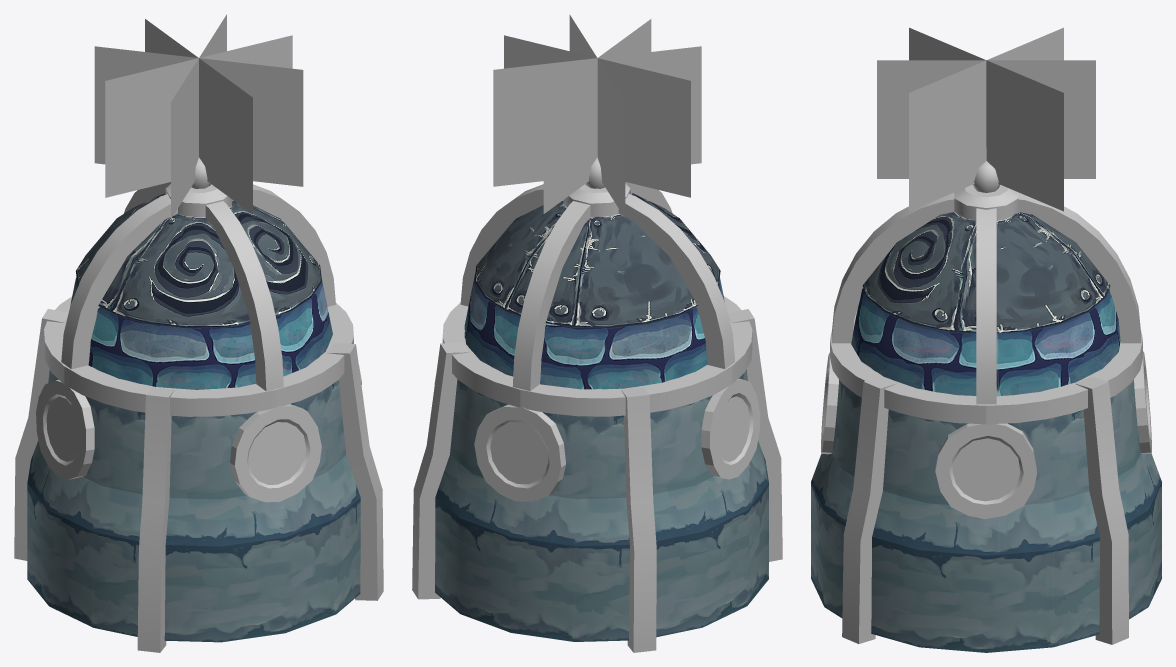
File: SM_CT_Cathedral2.FBX
The picture shows the model from 3 angles, left to right: view 1: azimuth 30°, elevation 25°; view 2: azimuth 150°, elevation 25°; view 3: azimuth 270°, elevation 25°; orthographic projection.
Visible parts, largest first — view 1: SM_CT_Cathedral2; view 2: SM_CT_Cathedral2; view 3: SM_CT_Cathedral2.
Part boxes in pixels (box(x1,y1,x2,y2)): SM_CT_Cathedral2: box(14, 14, 383, 652); SM_CT_Cathedral2: box(412, 14, 782, 652); SM_CT_Cathedral2: box(811, 27, 1161, 652).
Bounding box in the file's own units: 221 × 366 × 221.
